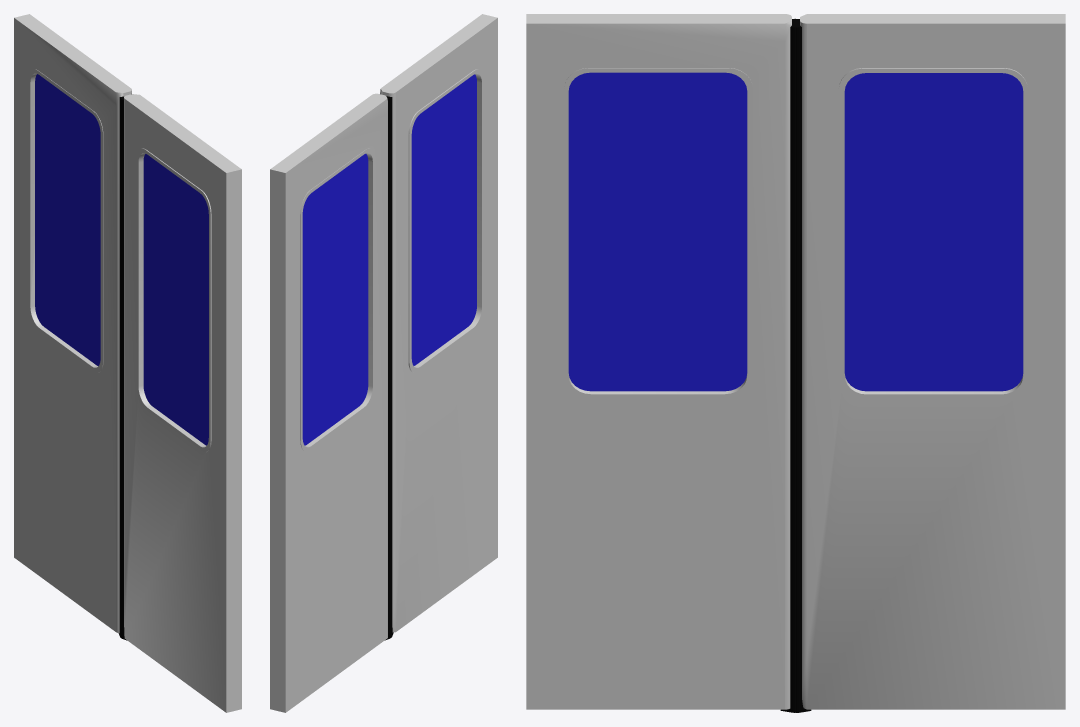
The model's file is 열차문.fbx.
The picture shows the model from 3 angles, left to right: view 1: azimuth 30°, elevation 25°; view 2: azimuth 150°, elevation 25°; view 3: azimuth 270°, elevation 25°; orthographic projection. The views are drawn at different scales.
Visible parts, largest first — view 1: Cube.002, Cube.001; view 2: Cube.001, Cube.002; view 3: Cube.001, Cube.002.
Boxes of the visible parts, x1,y1,x2,y2 form: Cube.002: (121, 94, 241, 712); Cube.001: (14, 14, 131, 637); Cube.001: (270, 93, 390, 712); Cube.002: (380, 14, 497, 637); Cube.001: (794, 14, 1065, 712); Cube.002: (526, 14, 795, 712).
Bounding box in the file's own units: 6.22 × 187 × 133.
